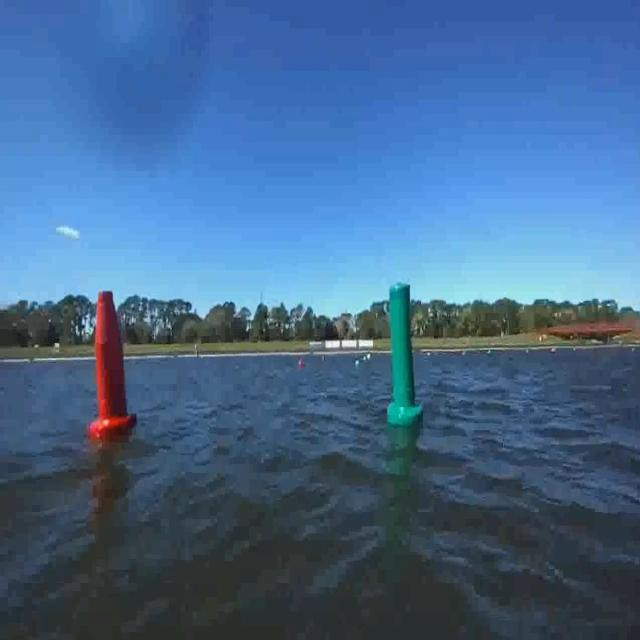green-column-buoy: (384, 280, 420, 426)
red-column-buoy: (92, 286, 136, 440)
